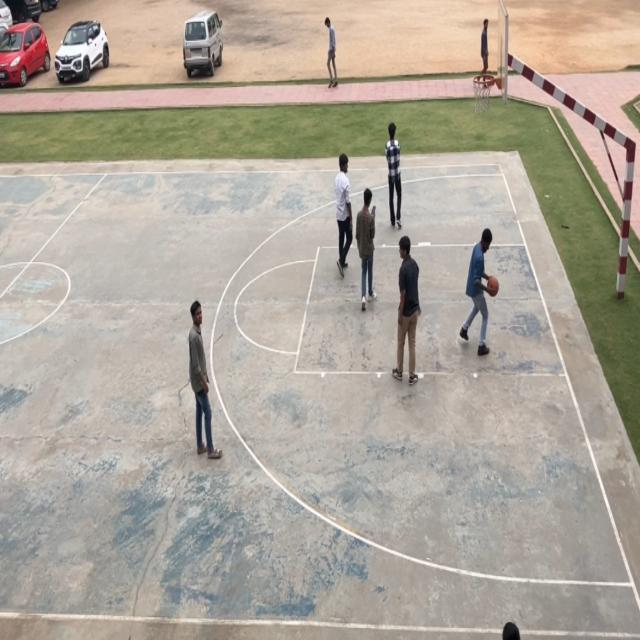basketball: (487, 274, 500, 300)
hoop: (471, 68, 498, 114)
